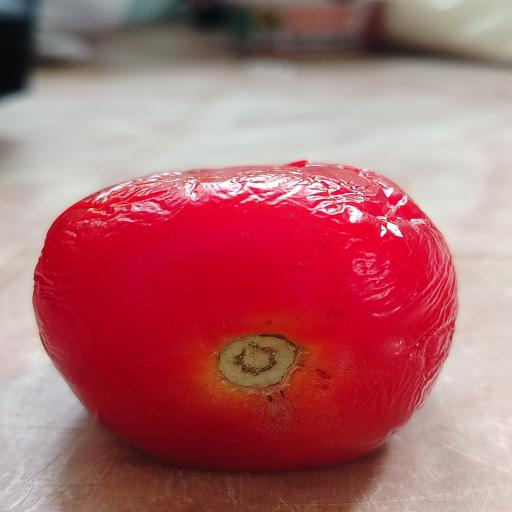spoiled: (33, 161, 456, 470)
